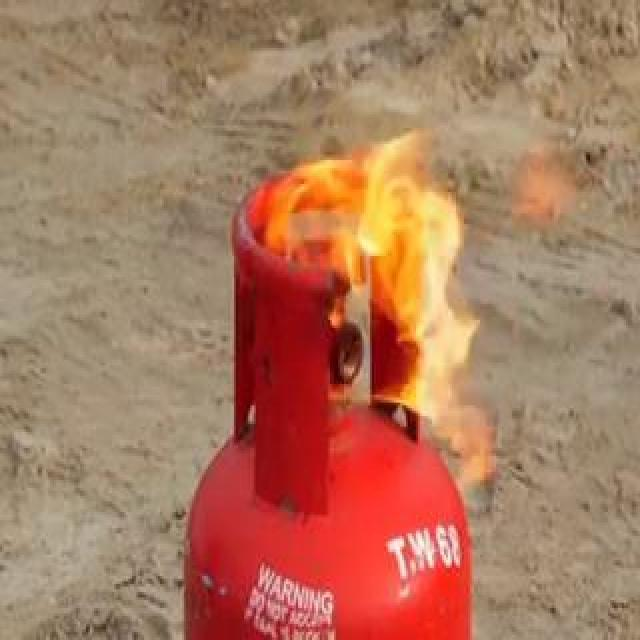Fire: (251, 49, 541, 463)
